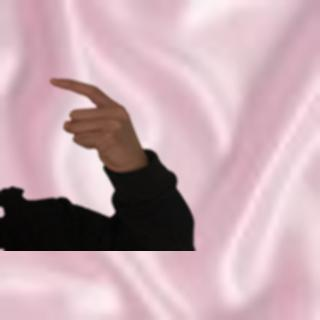WHY: (42, 70, 145, 171)
